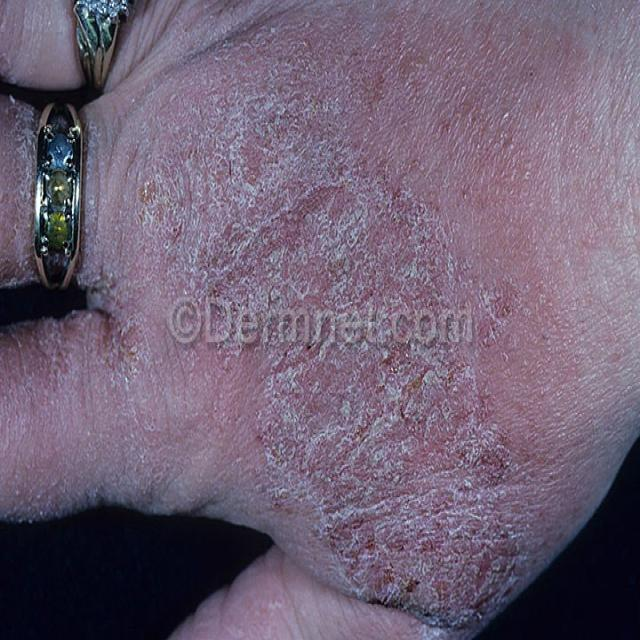Eczema: (142, 53, 531, 618)
